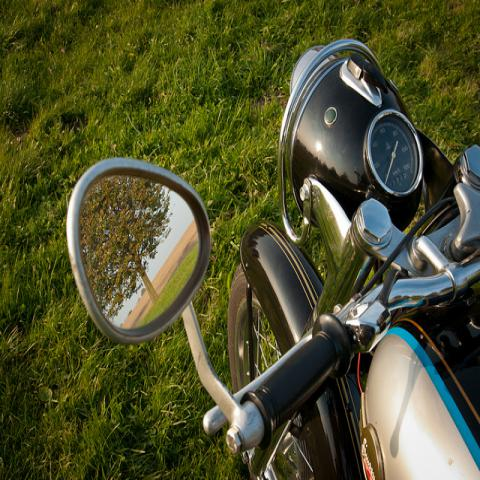motorcycle: (64, 46, 479, 474)
